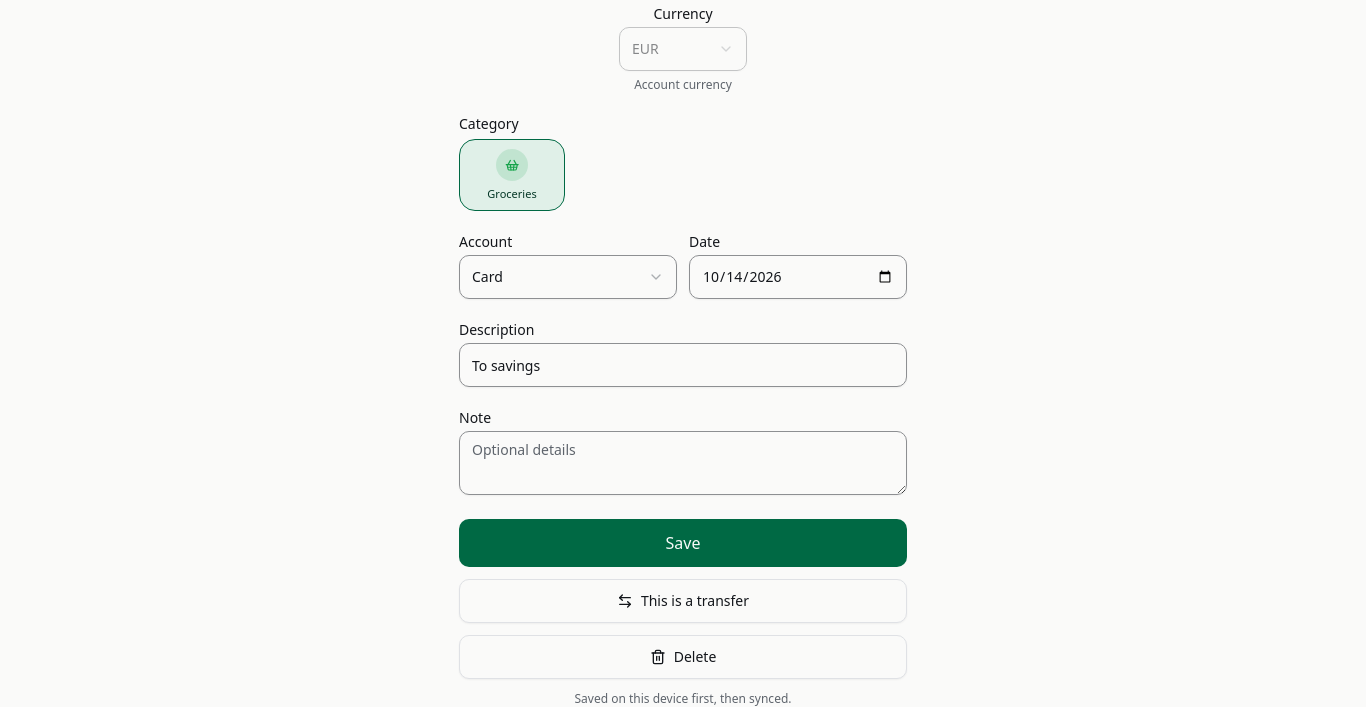
Test case: the transfer action (BR-37) › links an entry to its other side on another account
(page scrolled)
Click the button "This is a transfer" at {"x": 683, "y": 601}, box [459,579,907,623]
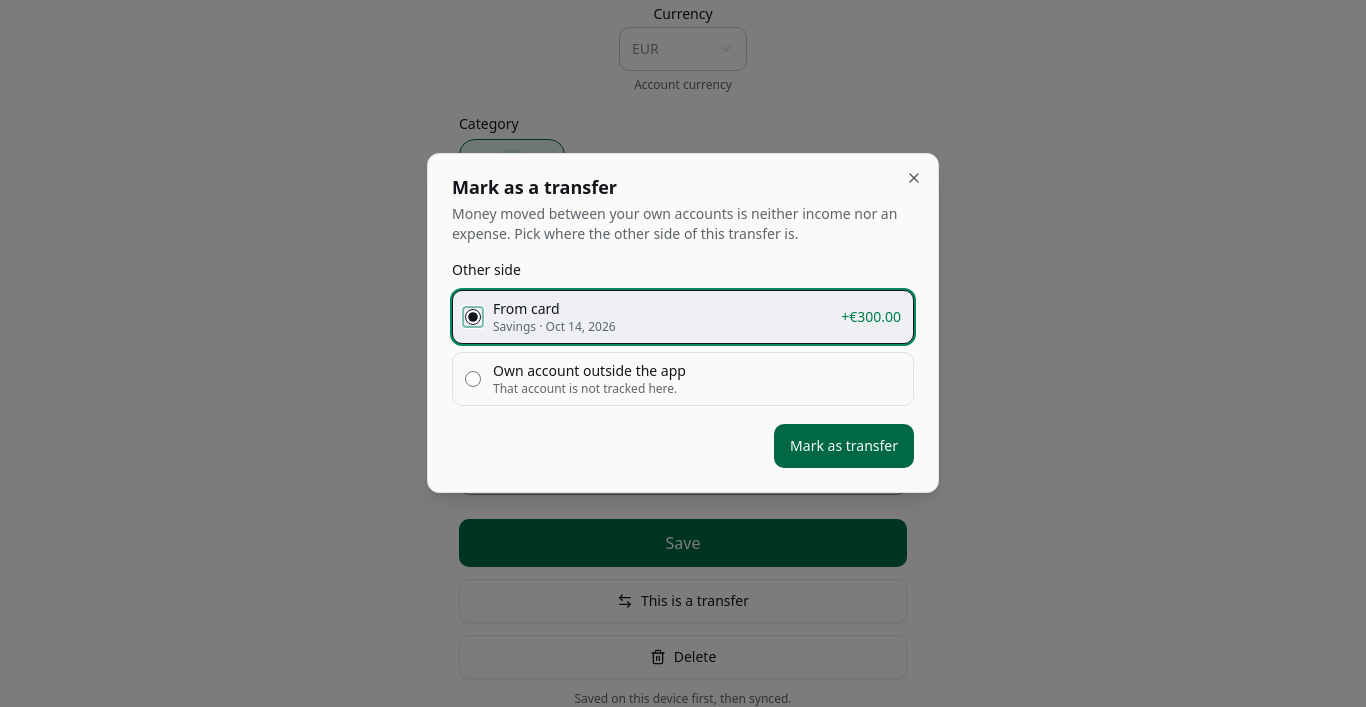
Now the radio button labelled "From card Savings · Oct 14, 2026 +€300.00" is checked, box [465,309,481,325]
Now the radio button labelled "Own account outside the app" is shown, box [465,371,481,387]
Click the button "Mark as transfer" at {"x": 844, "y": 446}, box [774,424,914,468]
(page scrolled)
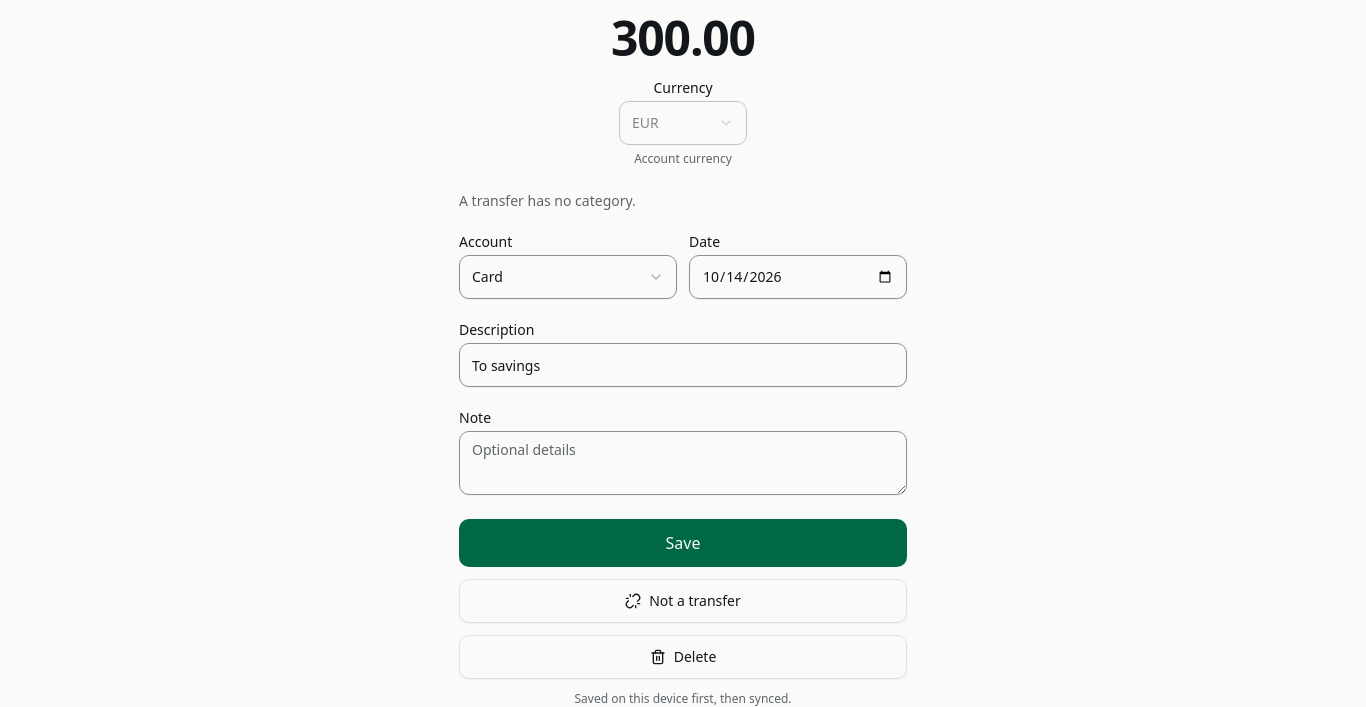
Now the text "A transfer has no category." is shown, box [459,191,636,210]
Now the button "Not a transfer" is shown, box [459,579,907,623]
